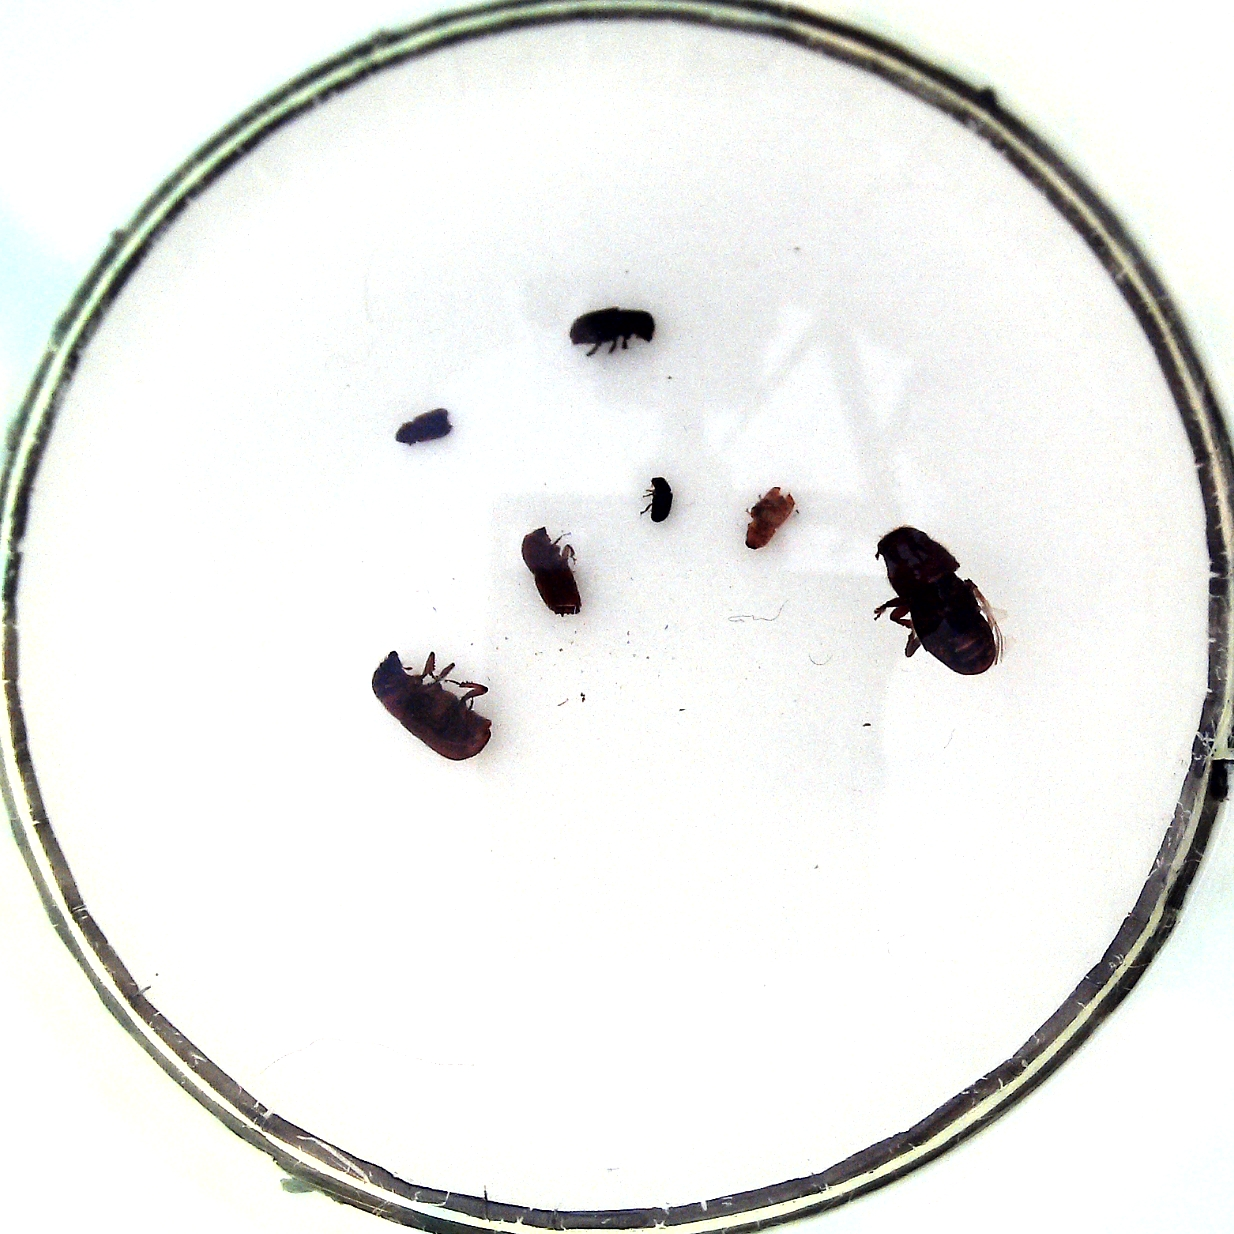Leconte: (875, 525, 997, 675), (372, 651, 492, 762)
acuminatus: (650, 476, 674, 523)
armandi: (570, 307, 655, 345)
coleoptera: (745, 487, 796, 549), (396, 408, 451, 444)
linnaeus: (522, 527, 583, 617)
